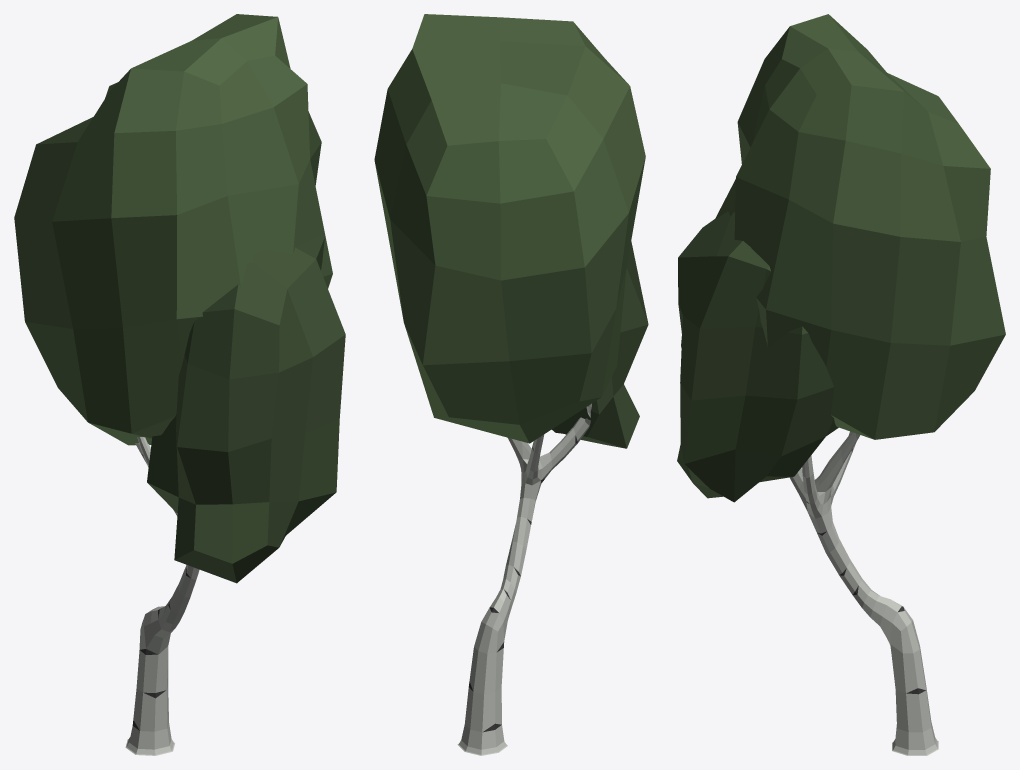
The model's file is BirchTree_2.gltf.
3 renders of one model, left to right at view 1: azimuth 30°, elevation 25°; view 2: azimuth 150°, elevation 25°; view 3: azimuth 270°, elevation 25°, orthographic. The views are drawn at different scales.
Parts seen in each view (by area): view 1: BirchTree_2; view 2: BirchTree_2; view 3: BirchTree_2.
Boxes of the visible parts, left/top/right/bottom form: BirchTree_2: left=14, top=14, right=345, bottom=755; BirchTree_2: left=374, top=14, right=648, bottom=755; BirchTree_2: left=677, top=14, right=1005, bottom=755.
Bounding box in the file's own units: 1.47 × 4.03 × 1.69.
